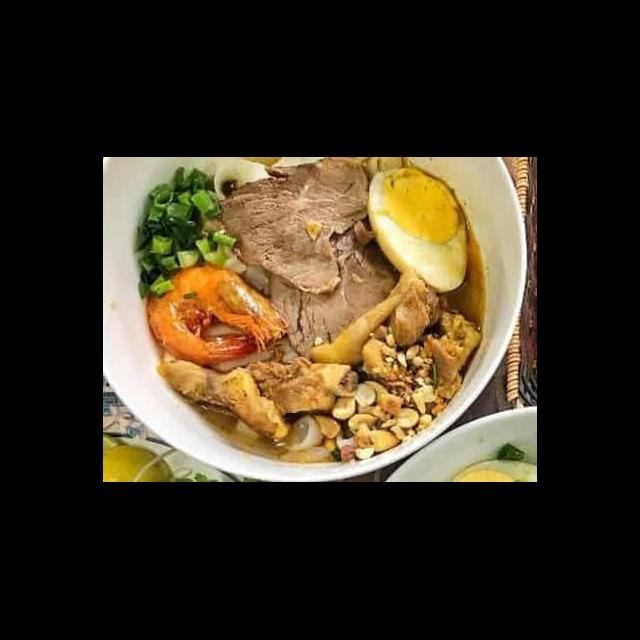mi: (200, 320, 301, 374), (274, 408, 359, 466)
thit heo: (199, 158, 373, 300), (263, 210, 403, 362), (241, 353, 361, 418)
tom: (143, 262, 292, 371)
trung: (362, 165, 472, 296)
